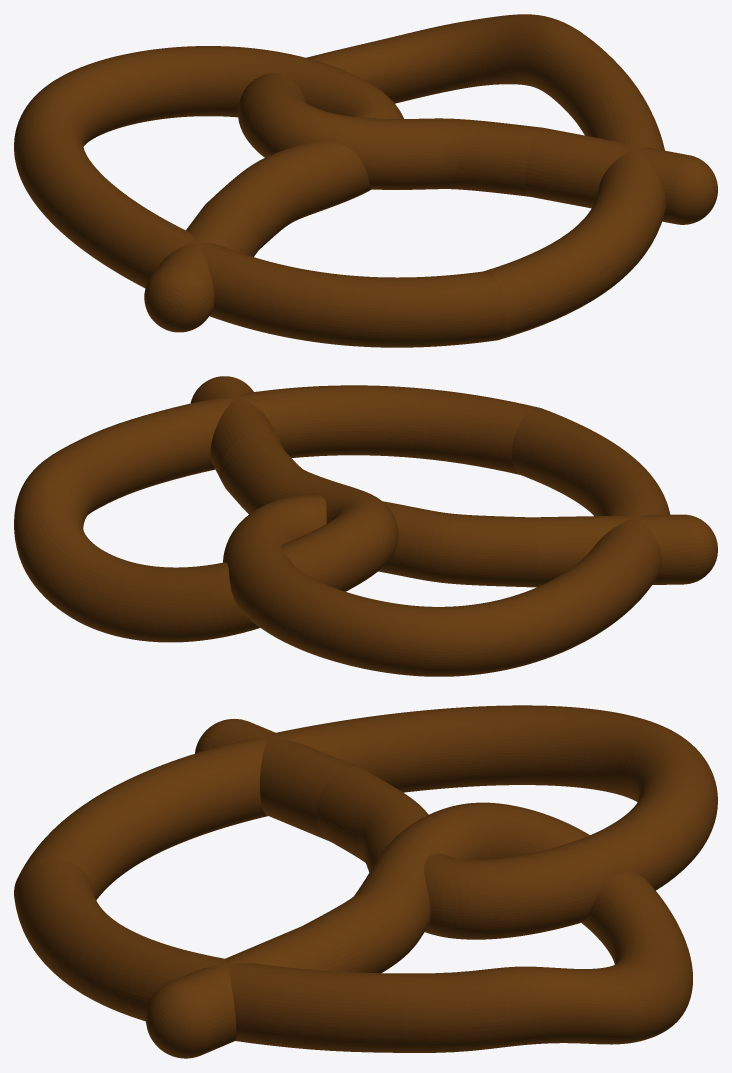
File: pretzel.obj
3 renders of one model, top to bottom at view 1: azimuth 30°, elevation 25°; view 2: azimuth 150°, elevation 25°; view 3: azimuth 270°, elevation 25°, orthographic. The views are drawn at different scales.
Visible parts, largest first — view 1: pretzel; view 2: pretzel; view 3: pretzel.
Boxes of the visible parts, box(x1,y1,x2,y2) form: pretzel: box(14, 14, 717, 347); pretzel: box(14, 376, 717, 676); pretzel: box(14, 705, 717, 1058).
Bounding box in the file's own units: 185 × 32.14 × 177.
